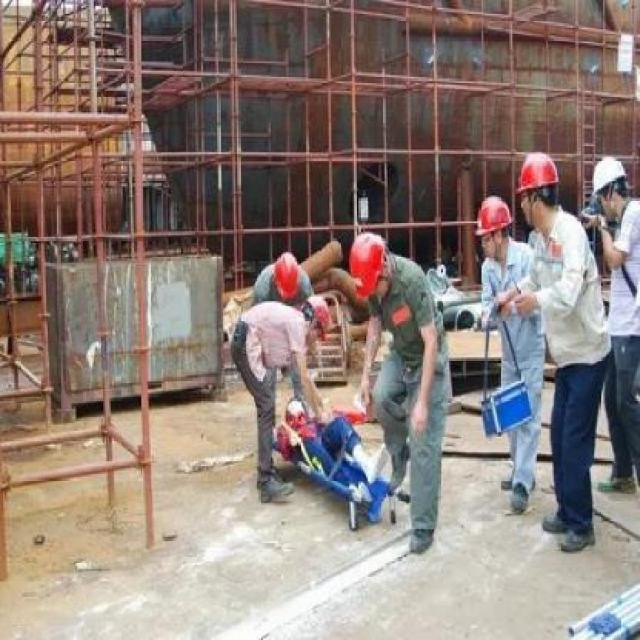fall: (270, 383, 405, 531)
